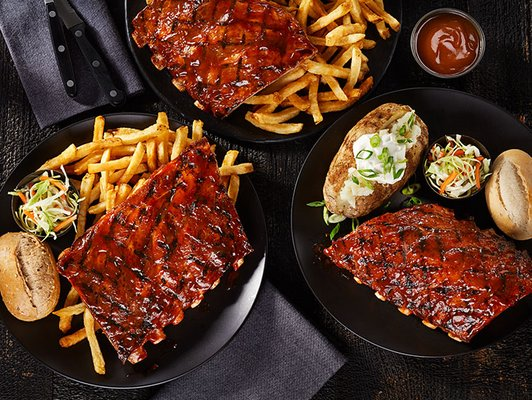sandwich: (52, 0, 126, 106), (45, 2, 77, 98)
soup: (322, 103, 429, 220)
sushi: (409, 8, 486, 79)
